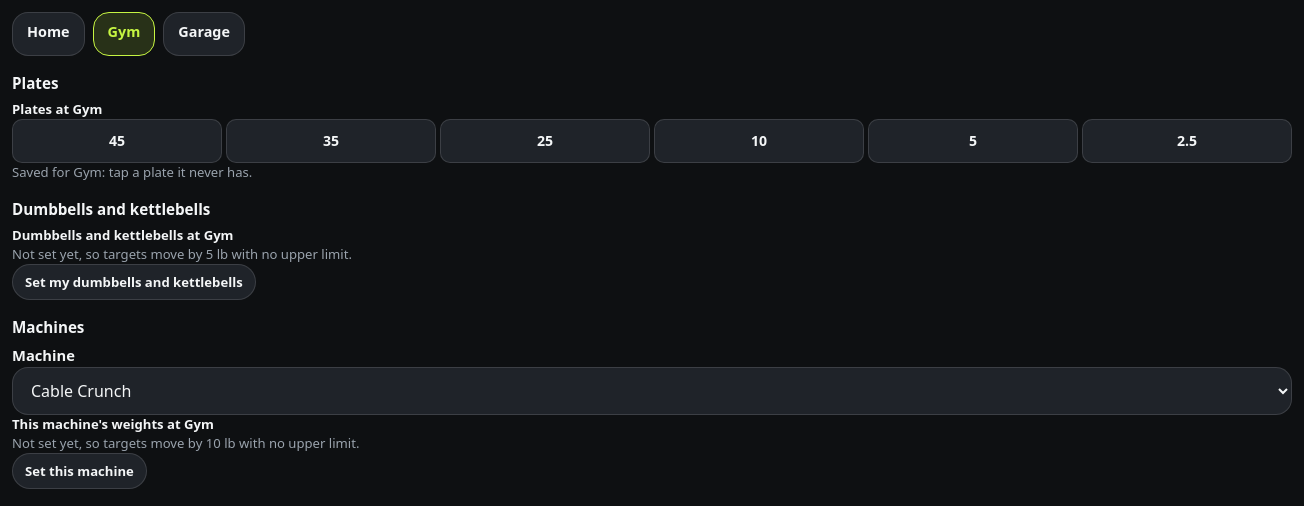
the weights at each place, in Settings › names both where a place has dumbbells and kettlebells, as they share one record
The image size is (1304, 506).
Click the radio button labelled "Garage" at coordinates (204, 34), box [163,12,245,56]
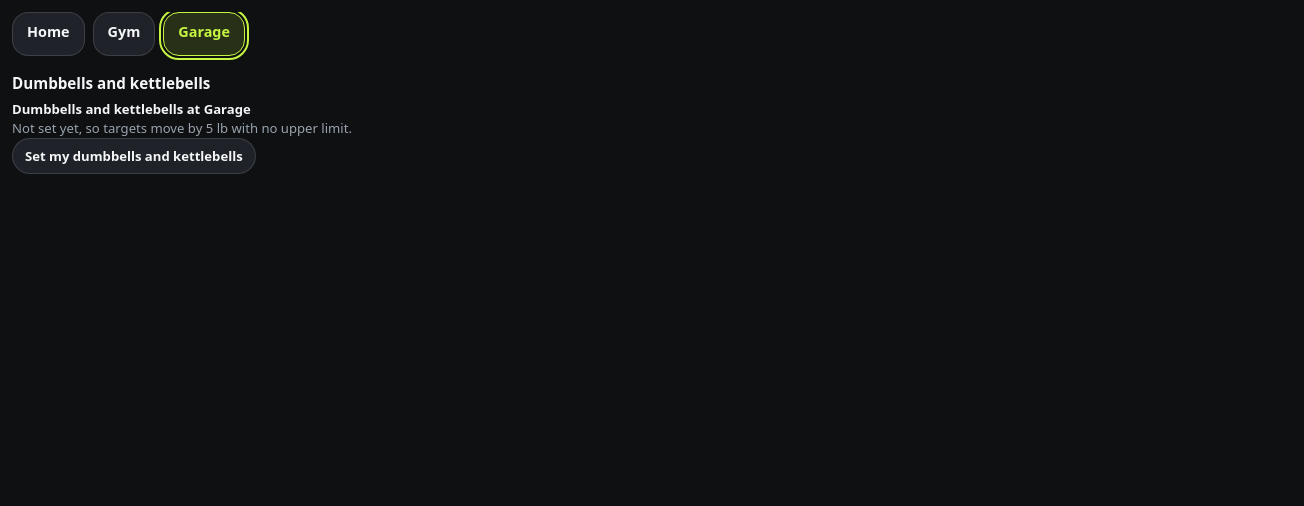
Check: the heading reads "Dumbbells and kettlebells", box [12,73,210,93]
Check: the element with test id "place-weights-dumbbells" shows "Dumbbells and kettlebells at Garage", box [12,100,251,118]
